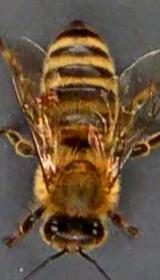varroa_mite: (30, 78, 64, 114)
